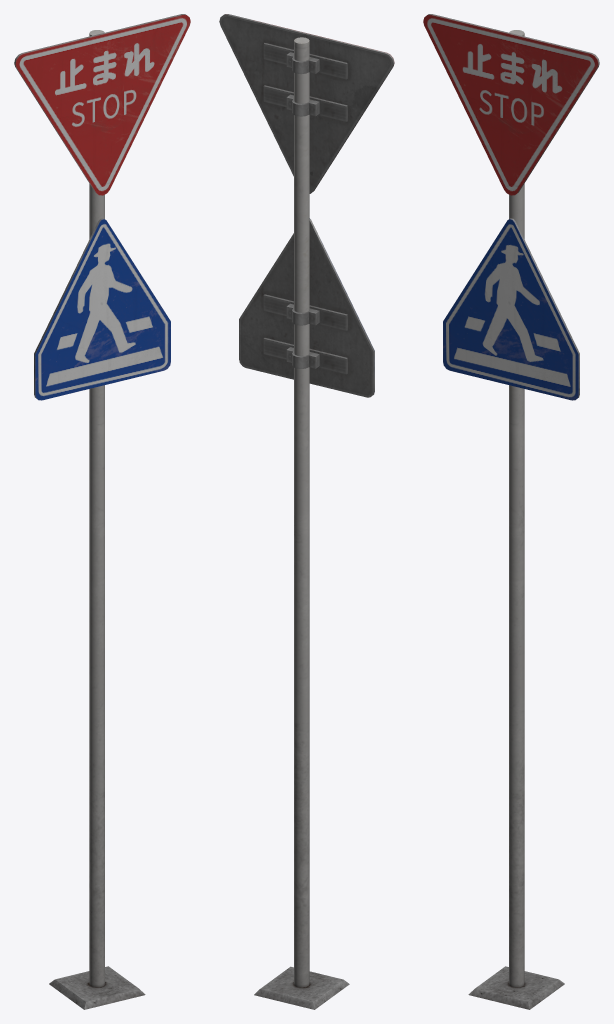
Rendered from jctStreetSignA.fbx.
3 renders of one model, left to right at view 1: azimuth 30°, elevation 25°; view 2: azimuth 150°, elevation 25°; view 3: azimuth 330°, elevation 25°, orthographic.
Parts seen in each view (by area): view 1: jctStreetSignA; view 2: jctStreetSignA; view 3: jctStreetSignA.
Boxes of the visible parts, x1=… form: jctStreetSignA: x1=14, y1=14, x2=190, y2=1009; jctStreetSignA: x1=219, y1=14, x2=394, y2=1009; jctStreetSignA: x1=423, y1=14, x2=599, y2=1009.
Size of the model in its own units: 77.2 by 404 by 27.08.
